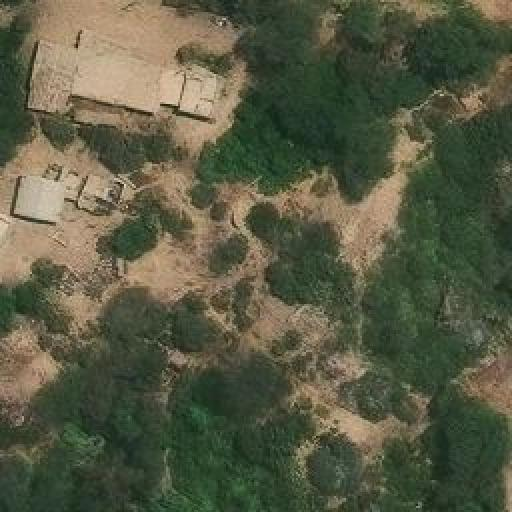manzanas: (20, 20, 232, 128), (11, 156, 145, 231)
